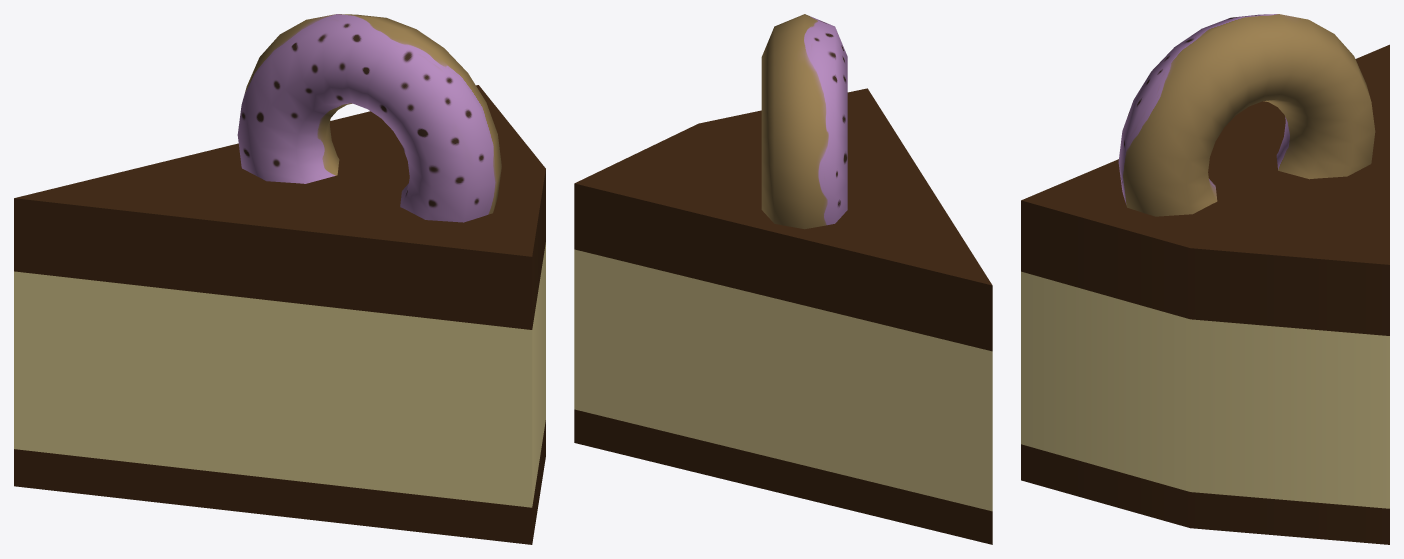
The model's file is Choco Cake.glb.
The picture shows the model from 3 angles, left to right: view 1: azimuth 30°, elevation 25°; view 2: azimuth 150°, elevation 25°; view 3: azimuth 270°, elevation 25°; orthographic projection. The views are drawn at different scales.
Parts seen in each view (by area): view 1: Choco Cake; view 2: Choco Cake; view 3: Choco Cake.
Part boxes in pixels (x1=…): Choco Cake: x1=14, y1=14, x2=545, y2=544; Choco Cake: x1=574, y1=14, x2=992, y2=544; Choco Cake: x1=1021, y1=14, x2=1389, y2=544.
Bounding box in the file's own units: 0.135 × 0.126 × 0.0955.
3 materials, 1 textured.
